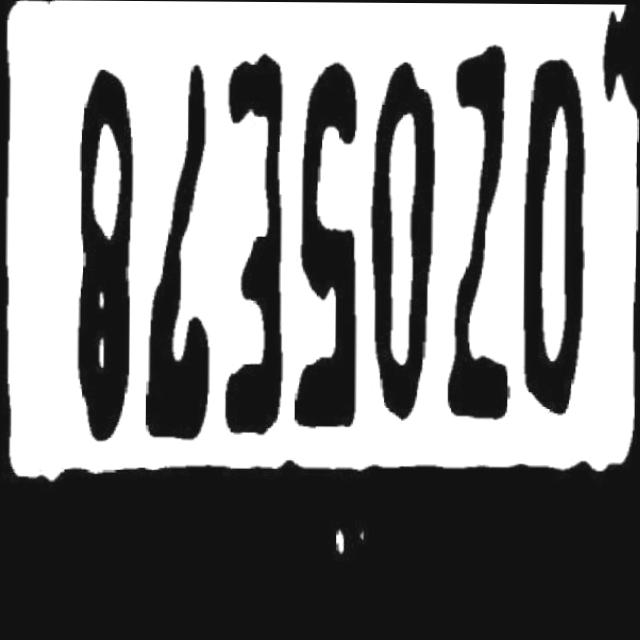5: (287, 64, 359, 431)
7: (141, 67, 213, 443)
8: (65, 65, 138, 448)
e: (206, 58, 284, 440)
o: (362, 51, 440, 431), (519, 48, 592, 420)
z: (442, 32, 517, 427)
